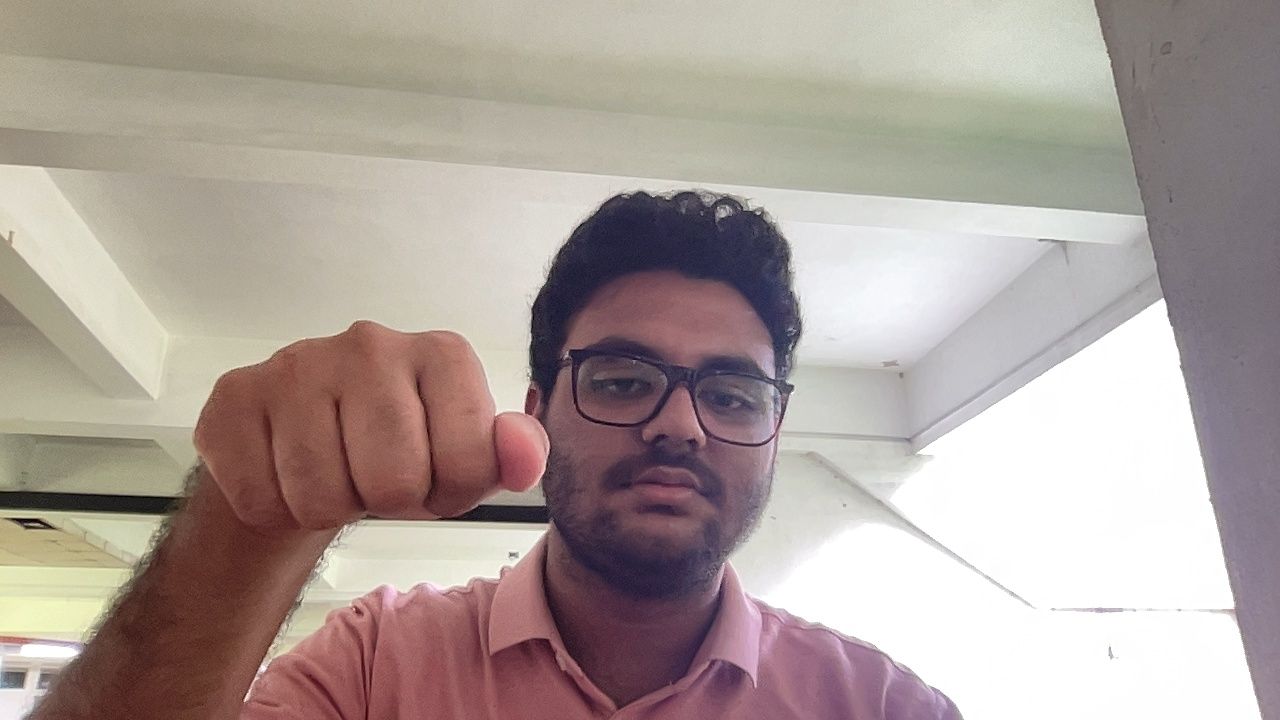no: (168, 284, 559, 578)
